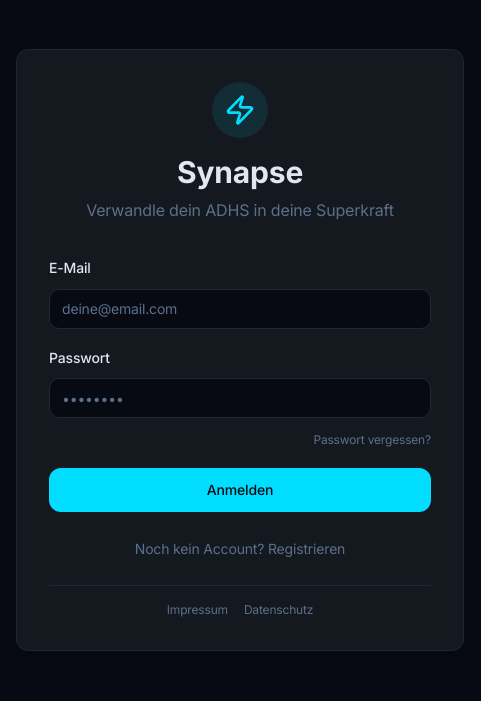
Test: Auth Page › should switch to signup form
Click the button "Noch kein Account? Registrieren" at (240, 549), box [135, 539, 345, 559]
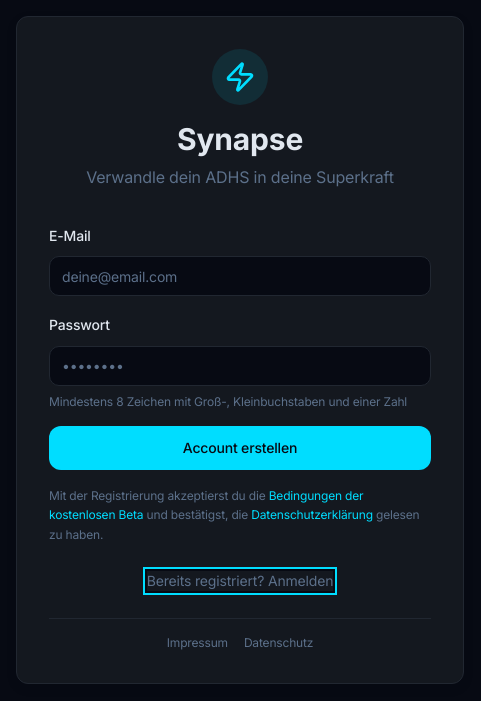
Expected: the button "Account erstellen" is shown, [49, 426, 431, 470]
